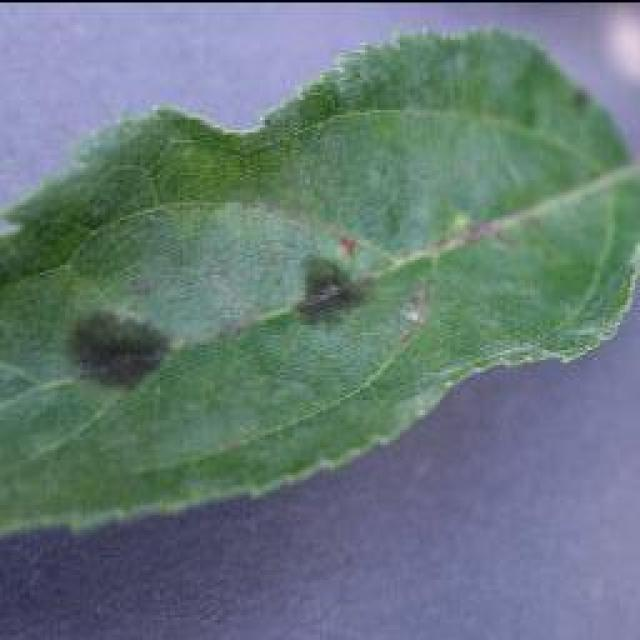apple scab disease: (65, 305, 170, 390)
